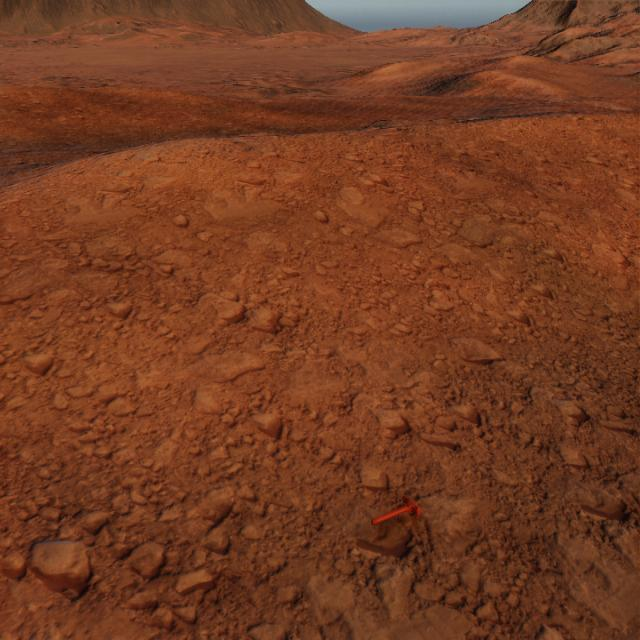newhammer: (371, 496, 421, 525)
